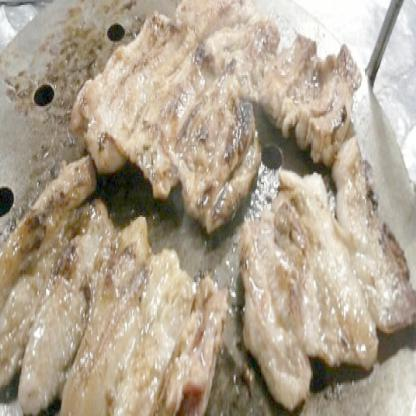Carne: (8, 158, 227, 414), (229, 157, 415, 403), (69, 0, 254, 227), (178, 0, 365, 172)
